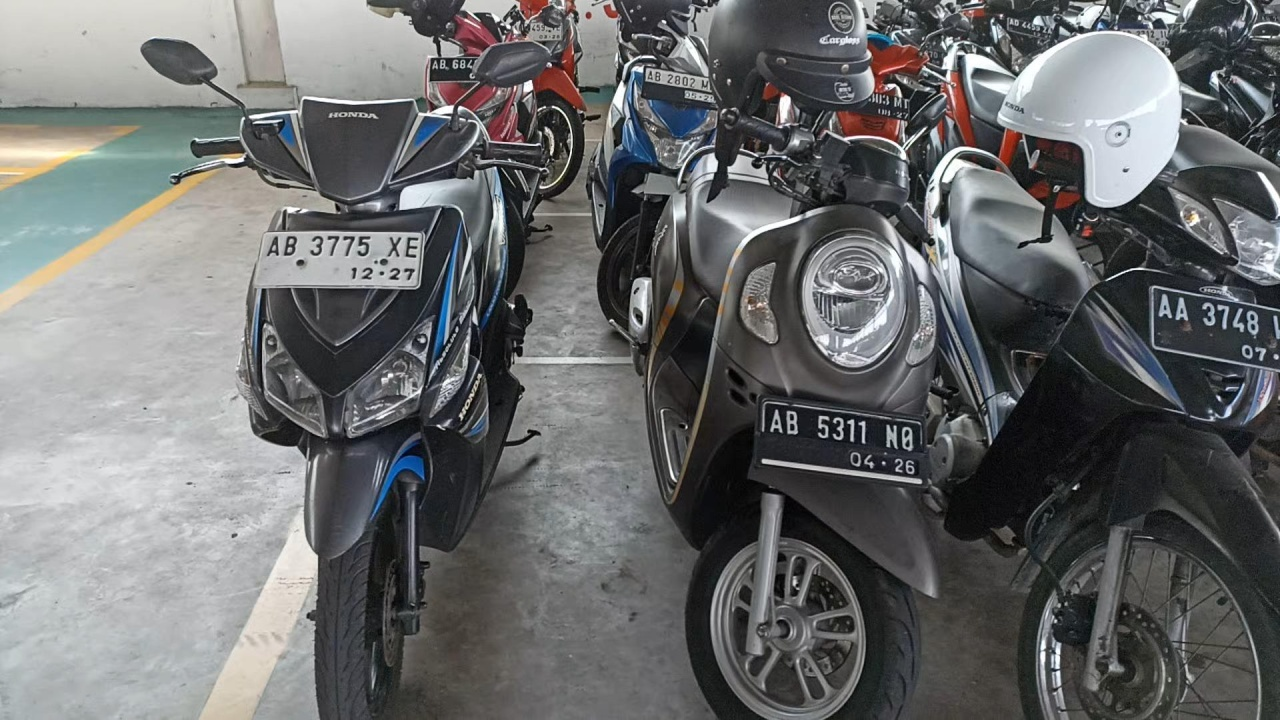plate: (760, 397, 927, 488), (252, 231, 425, 287)
